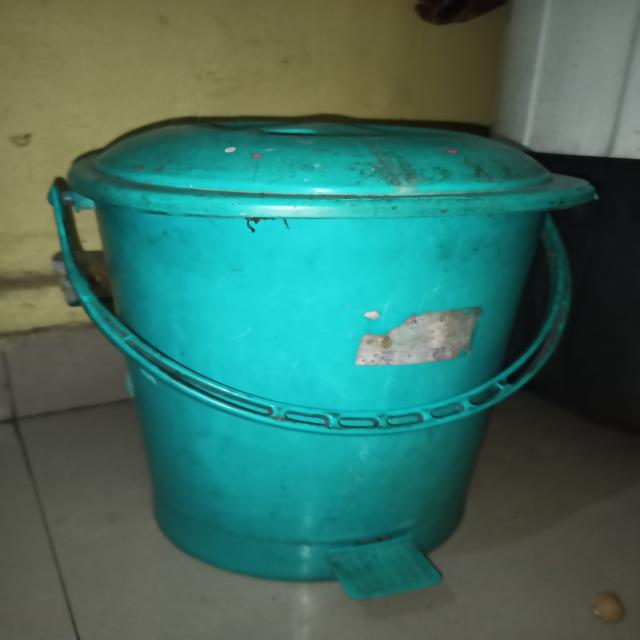plastic_box: (67, 82, 572, 598)
